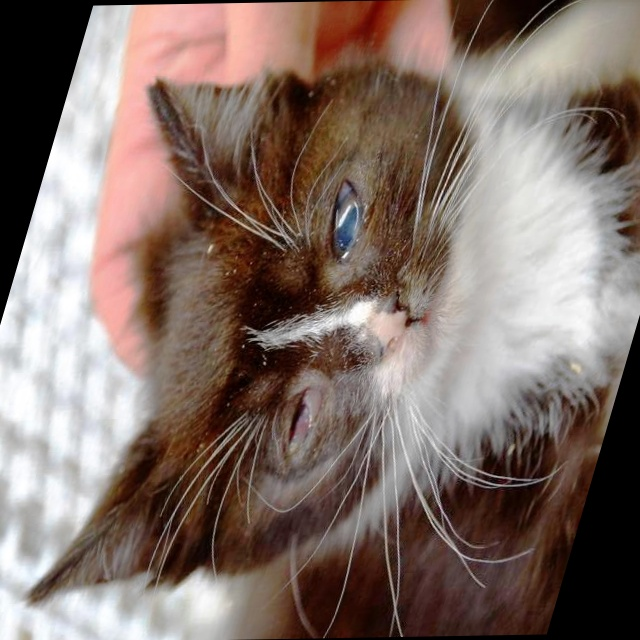eye_infection: (267, 384, 338, 463)
